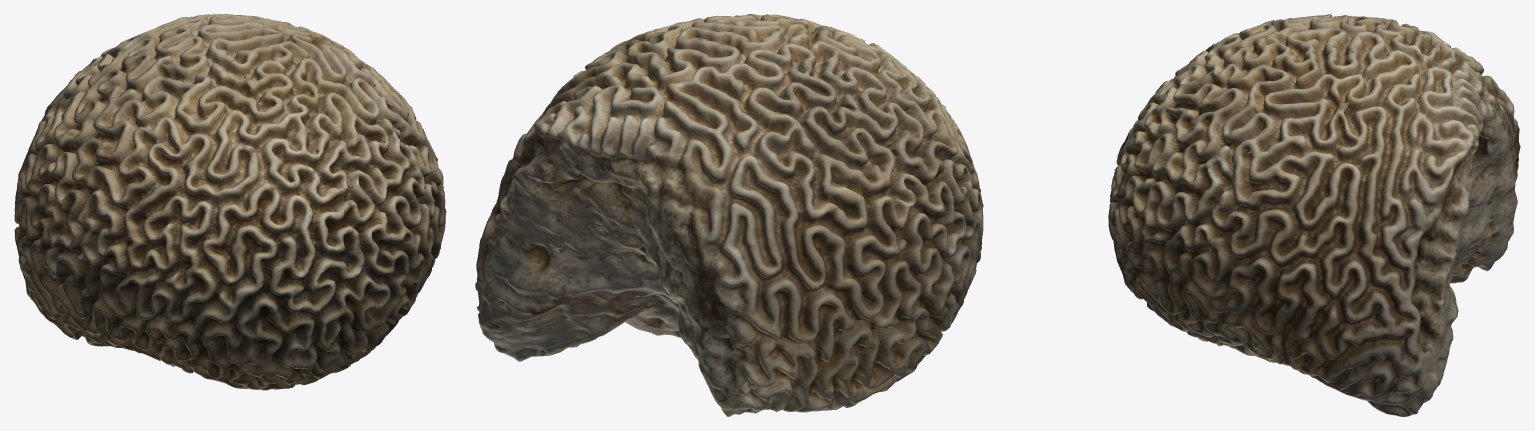
The model's file is usnm_1137708-100k-4096.gltf.
The picture shows the model from 3 angles, left to right: view 1: azimuth 30°, elevation 25°; view 2: azimuth 150°, elevation 25°; view 3: azimuth 270°, elevation 25°; orthographic projection. The views are drawn at different scales.
Size of the model in its own units: 0.1877 by 0.1319 by 0.1632.
Materials: 1 (1 with a texture image).
